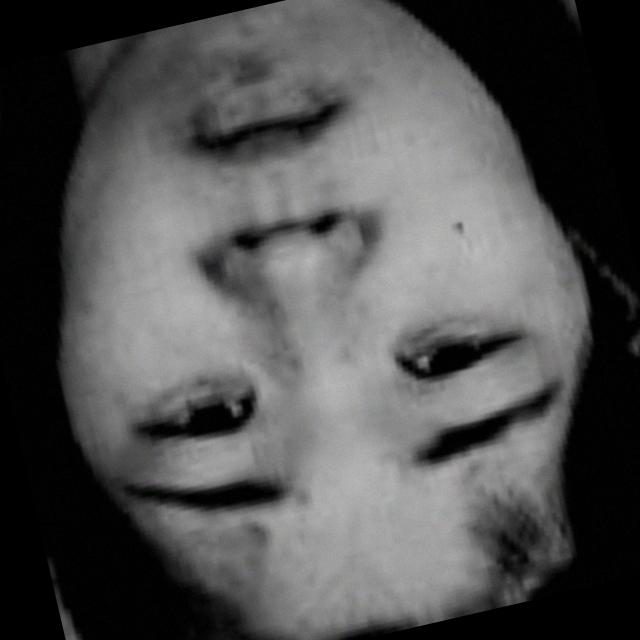sad: (26, 0, 621, 607)
